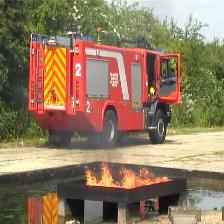fire: (84, 163, 174, 190)
